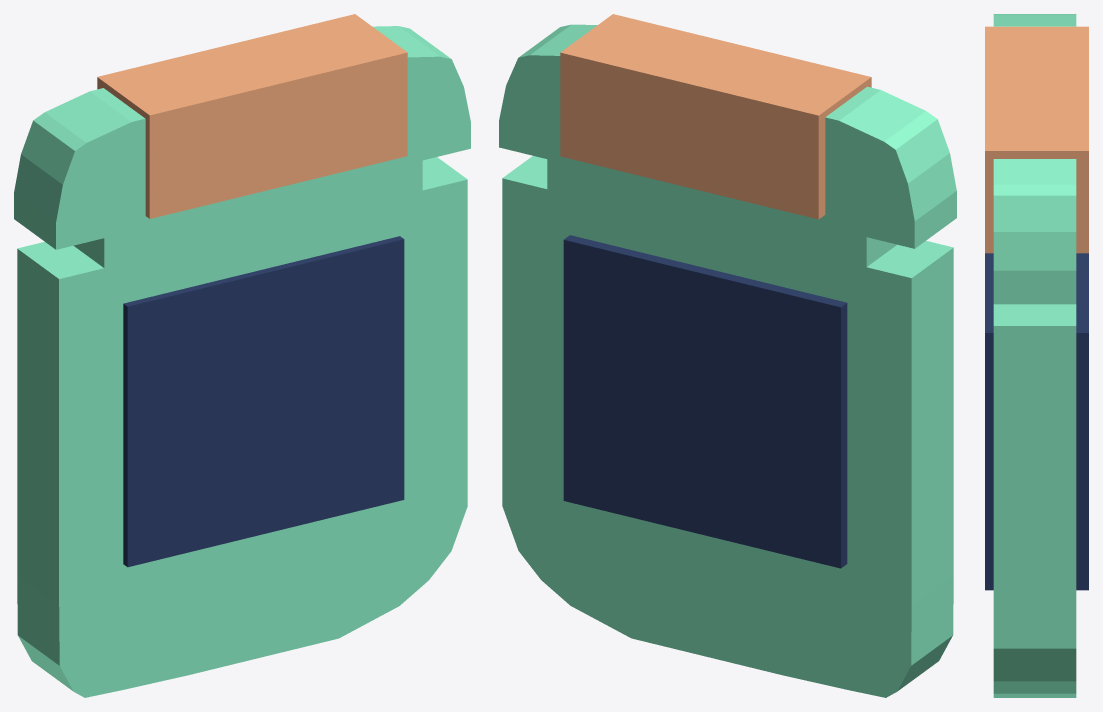
The model's file is chip 1.fbx.
3 views of the same model, side by side, from view 1: azimuth 30°, elevation 25°; view 2: azimuth 150°, elevation 25°; view 3: azimuth 270°, elevation 25° (orthographic).
Visible parts, largest first — view 1: Cubo, Cubo.002, Cubo.001; view 2: Cubo, Cubo.002, Cubo.001; view 3: Cubo, Cubo.001, Cubo.002.
Boxes of the visible parts, x1,y1,x2,y2 form: Cubo: [14, 26, 470, 697]; Cubo.002: [123, 236, 404, 567]; Cubo.001: [97, 14, 407, 218]; Cubo: [499, 24, 956, 697]; Cubo.002: [563, 235, 847, 568]; Cubo.001: [560, 14, 871, 219]; Cubo: [993, 14, 1076, 697]; Cubo.001: [985, 26, 1088, 253]; Cubo.002: [985, 253, 1088, 590].
Size of the model in its own units: 81.33 by 107 by 17.87.
